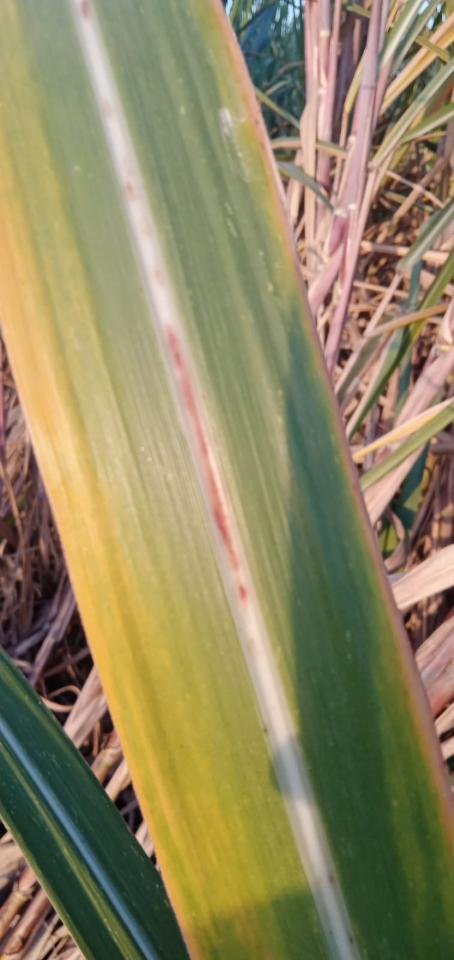RedRot: (161, 317, 249, 604), (119, 153, 167, 288), (97, 95, 118, 122), (75, 1, 93, 22)
Yellow: (0, 138, 280, 959)
